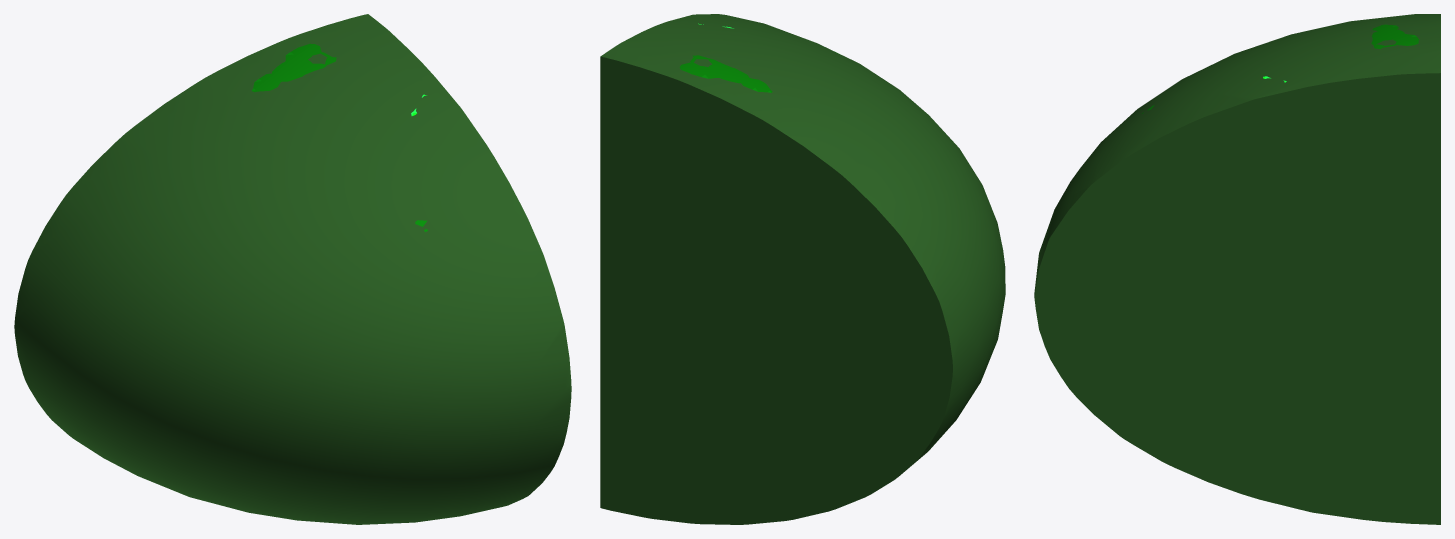
The model's file is glass_globe_bl.glb.
3 renders of one model, left to right at view 1: azimuth 30°, elevation 25°; view 2: azimuth 150°, elevation 25°; view 3: azimuth 270°, elevation 25°, orthographic.
Visible parts, largest first — view 1: glass_globe_bl_globe_glass, glass_globe_bl_globe_core; view 2: glass_globe_bl_globe_glass, glass_globe_bl_globe_core; view 3: glass_globe_bl_globe_glass, glass_globe_bl_globe_core.
Part boxes in pixels (x1=…): glass_globe_bl_globe_glass: x1=14, y1=14, x2=571, y2=524; glass_globe_bl_globe_core: x1=252, y1=43, x2=427, y2=231; glass_globe_bl_globe_glass: x1=600, y1=14, x2=1005, y2=524; glass_globe_bl_globe_core: x1=679, y1=23, x2=837, y2=92; glass_globe_bl_globe_glass: x1=1034, y1=14, x2=1440, y2=524; glass_globe_bl_globe_core: x1=1142, y1=24, x2=1418, y2=113.
Size of the model in its own units: 22.85 by 27.96 by 22.79.
